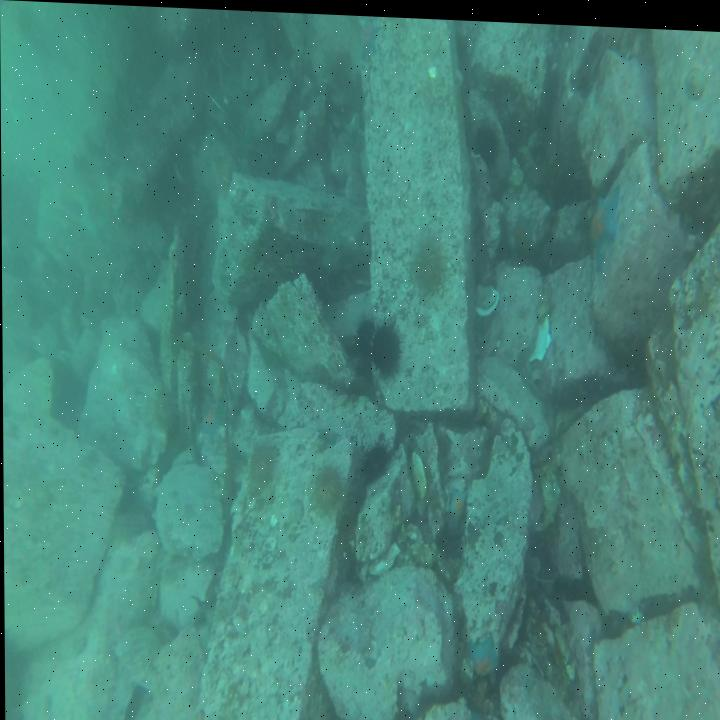echinus: (410, 232, 449, 295), (54, 362, 86, 410), (372, 320, 403, 366), (326, 43, 355, 92), (312, 461, 341, 508), (472, 114, 499, 161), (358, 435, 392, 472), (250, 441, 275, 480), (354, 316, 368, 351)
scallop: (528, 304, 554, 363), (408, 441, 429, 499), (473, 274, 500, 311)
starfish: (585, 180, 621, 265), (195, 389, 224, 441), (468, 634, 502, 676), (445, 478, 465, 523)
